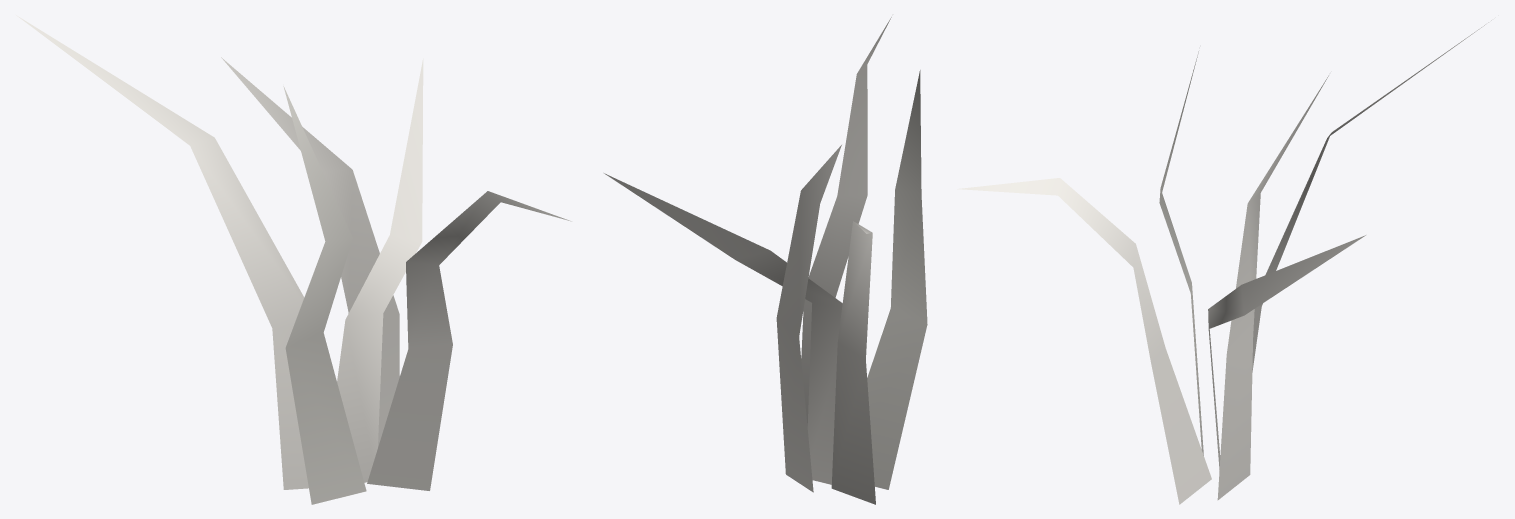
The model's file is Model_Frost_Plants1.fbx.
The picture shows the model from 3 angles, left to right: view 1: azimuth 30°, elevation 25°; view 2: azimuth 150°, elevation 25°; view 3: azimuth 270°, elevation 25°; orthographic projection. The views are drawn at different scales.
Parts seen in each view (by area): view 1: cao1; view 2: cao1; view 3: cao1.
Part boxes in pixels (x1=…): cao1: x1=16, y1=15, x2=571, y2=504; cao1: x1=604, y1=17, x2=927, y2=504; cao1: x1=957, y1=20, x2=1491, y2=504.
Bounding box in the file's own units: 41.7 × 50.97 × 62.78.
Materials: 1 (1 with a texture image).
